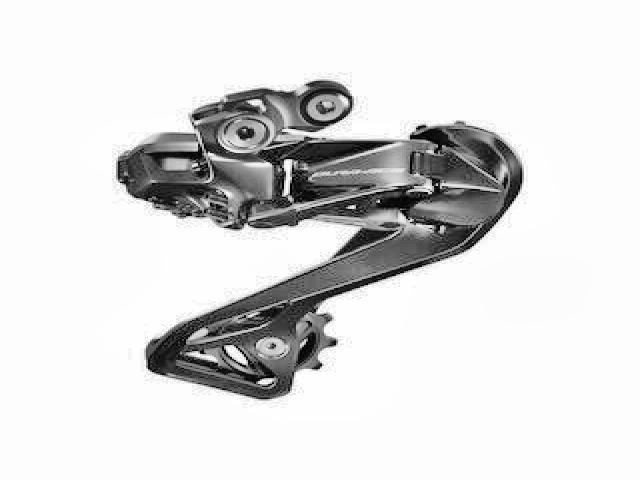rear_derailleur: (115, 70, 528, 398)
